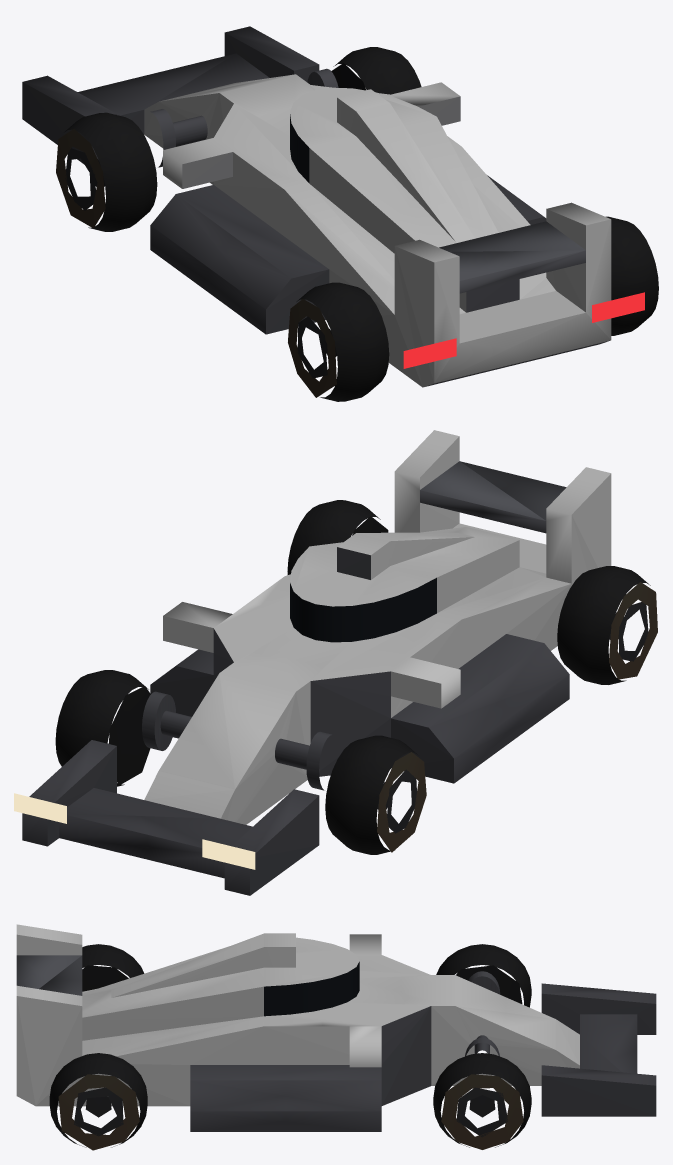
The model's file is ov_race.glb.
3 views of the same model, one above another, from view 1: azimuth 30°, elevation 25°; view 2: azimuth 150°, elevation 25°; view 3: azimuth 270°, elevation 25° (orthographic). The views are drawn at different scales.
Visible parts, largest first — view 1: Body, WheelFL, WheelRL, WheelRR, WheelFR; view 2: Body, WheelFL, WheelRL, WheelFR, WheelRR; view 3: Body, WheelFR, WheelRR, WheelFL, WheelRL.
Boxes of the visible parts, <box> form: Body: <box>22,26,644,387</box>; WheelFL: <box>56,112,157,231</box>; WheelRL: <box>288,282,389,401</box>; WheelRR: <box>606,216,658,335</box>; WheelFR: <box>331,47,421,94</box>; Body: <box>14,430,611,895</box>; WheelFL: <box>325,735,426,854</box>; WheelRL: <box>557,566,657,684</box>; WheelFR: <box>55,670,150,786</box>; WheelRR: <box>287,500,388,574</box>; Body: <box>16,924,656,1131</box>; WheelFR: <box>433,1053,531,1149</box>; WheelRR: <box>49,1053,147,1150</box>; WheelFL: <box>436,944,531,1007</box>; WheelRL: <box>82,944,144,991</box>.
Size of what is drawn, in the model's own units: 2.06 by 1.12 by 4.34.
